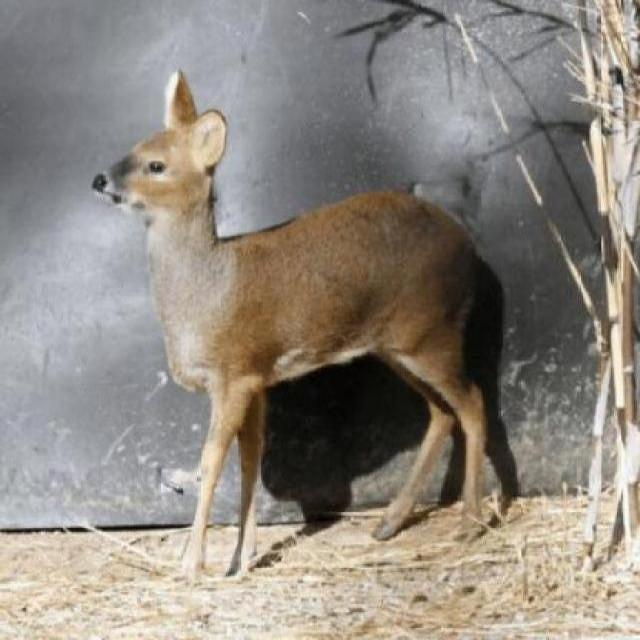deer: (87, 75, 500, 573)
